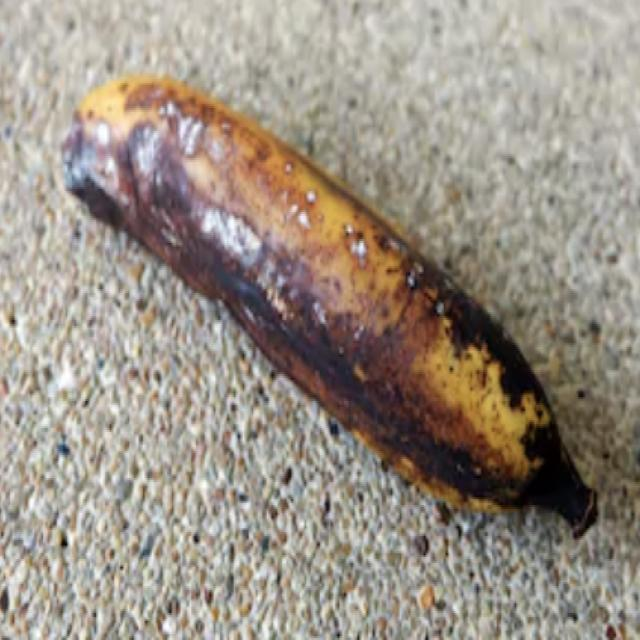Rotten: (39, 57, 614, 579)
